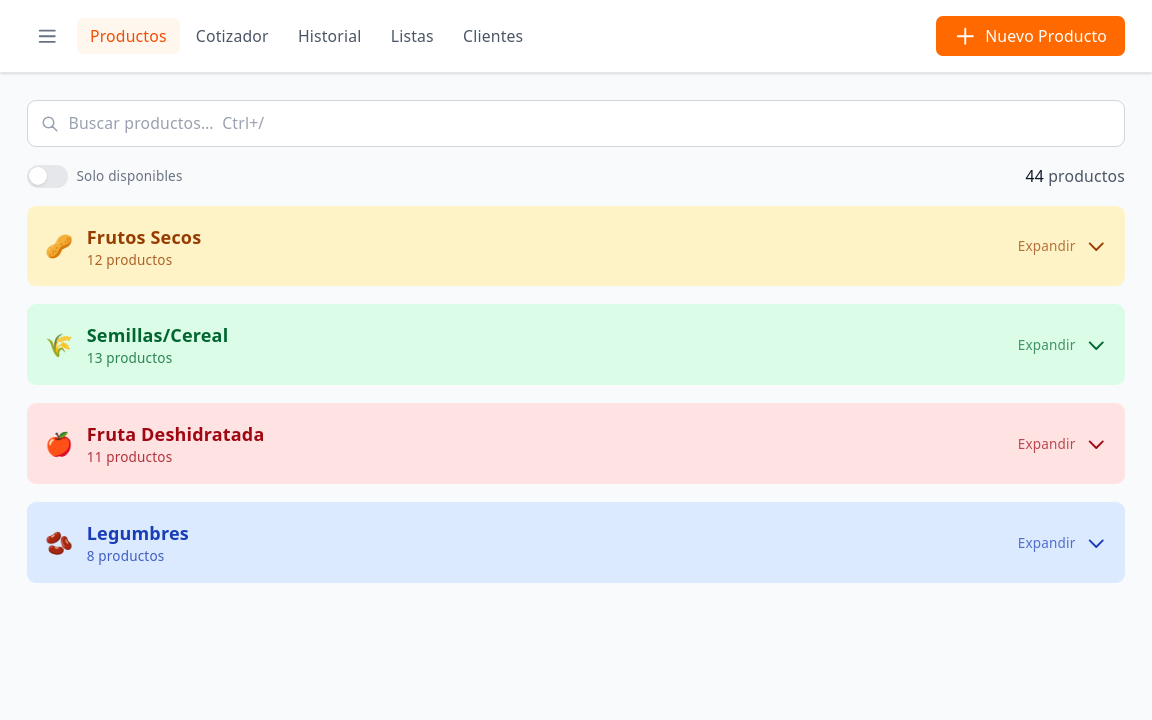
Test: Change password from the options menu › keeps the dialog open with a safe message when validation fails
Step 1. Click the button named "Menú de opciones" → [47, 36], box [27,16,68,56]
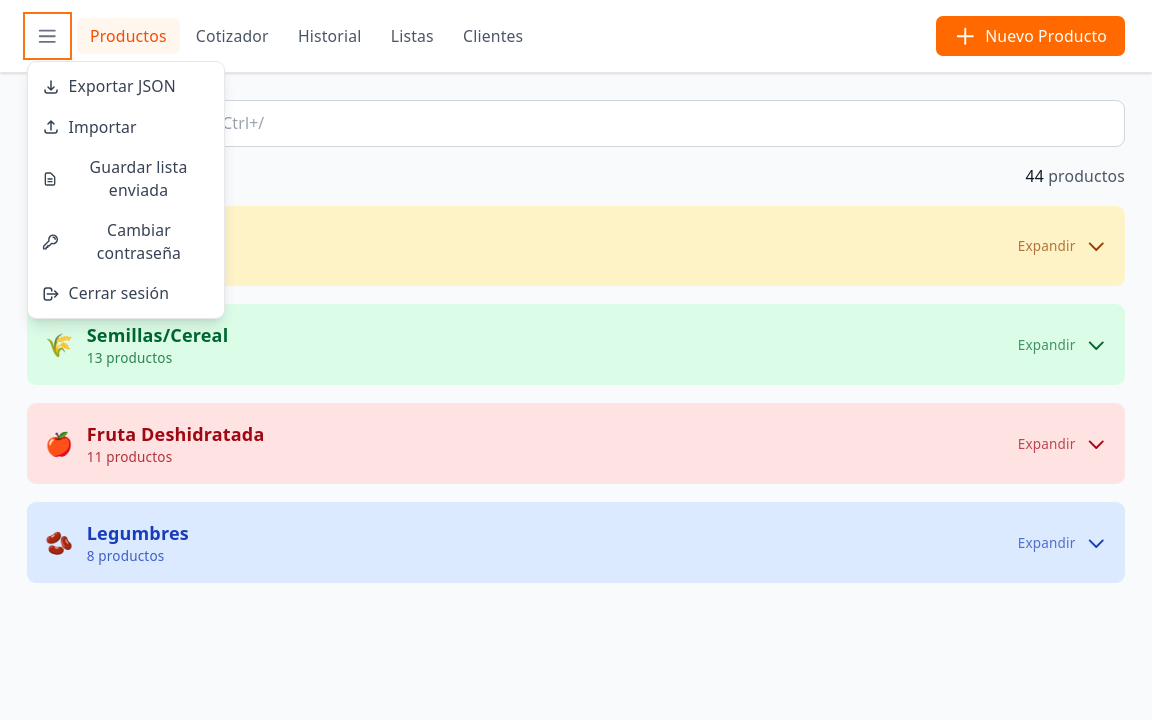
Step 2. Click the button "Cambiar contraseña" → [126, 242], box [28,210,224,273]
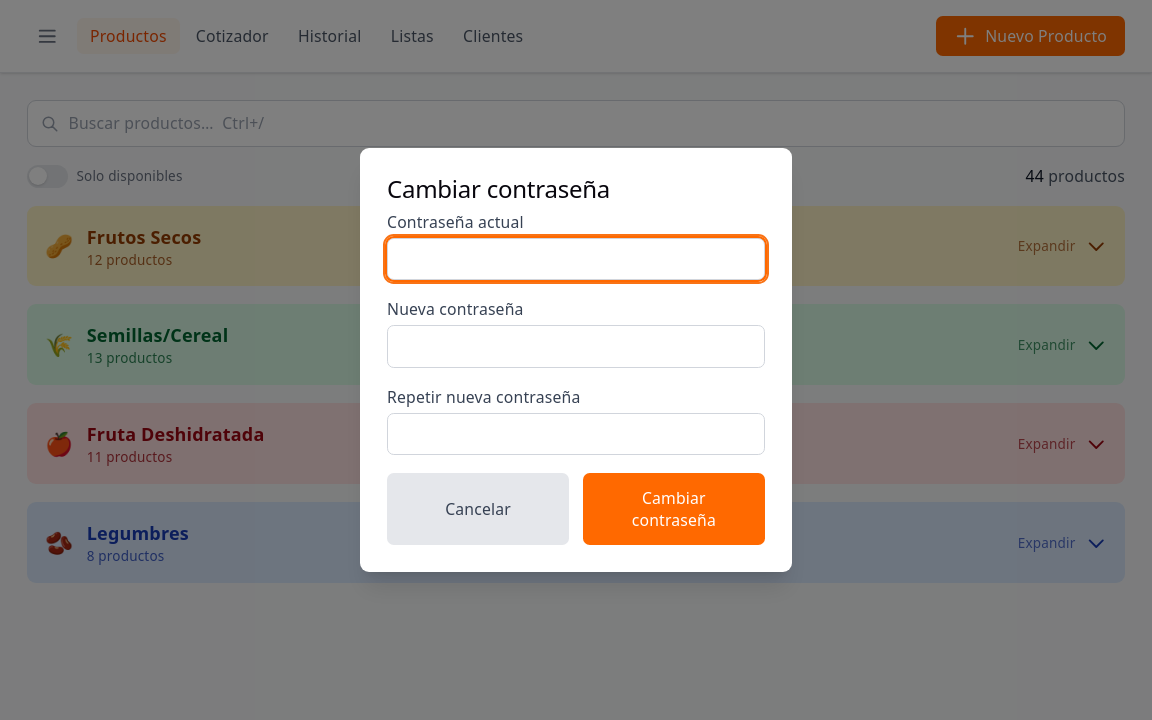
Step 3. Type "current-secret" into the password field labelled "Contraseña actual" → [576, 259], box [387,238,765,280]
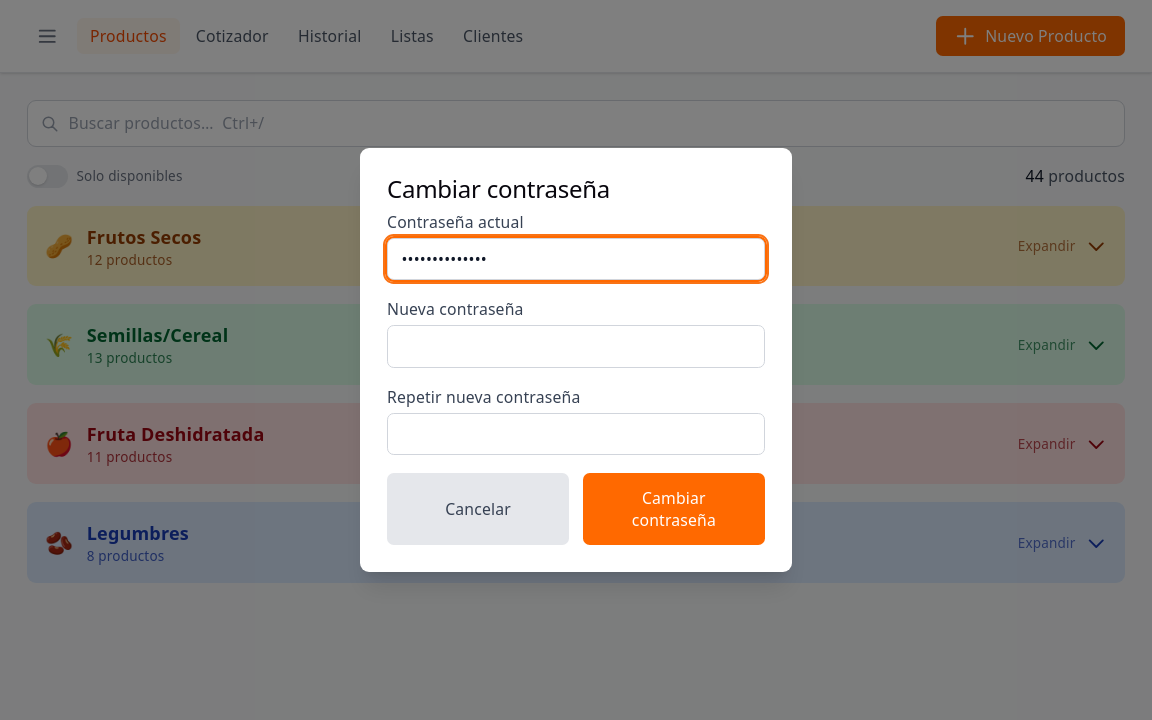
Step 4. Type "new-secret-1" into the password field labelled "Nueva contraseña" → [576, 347], box [387,325,765,368]
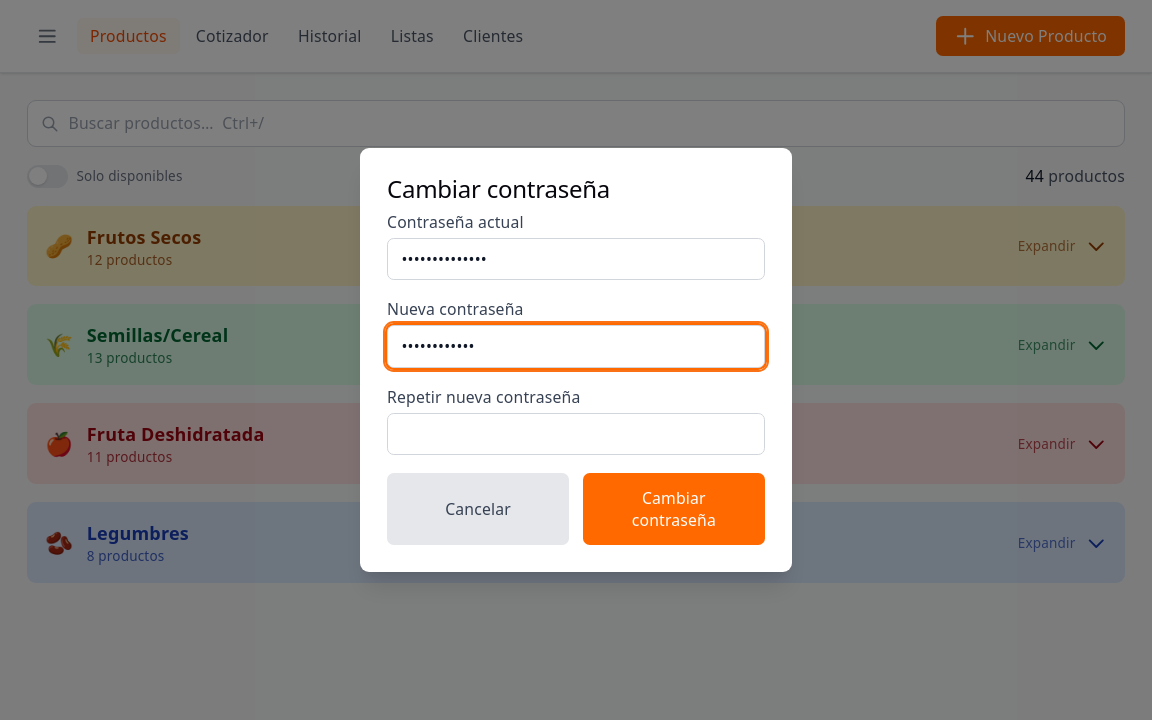
Step 5. Type "other-secret-1" into the password field labelled "Repetir nueva contraseña" → [576, 434], box [387,413,765,455]
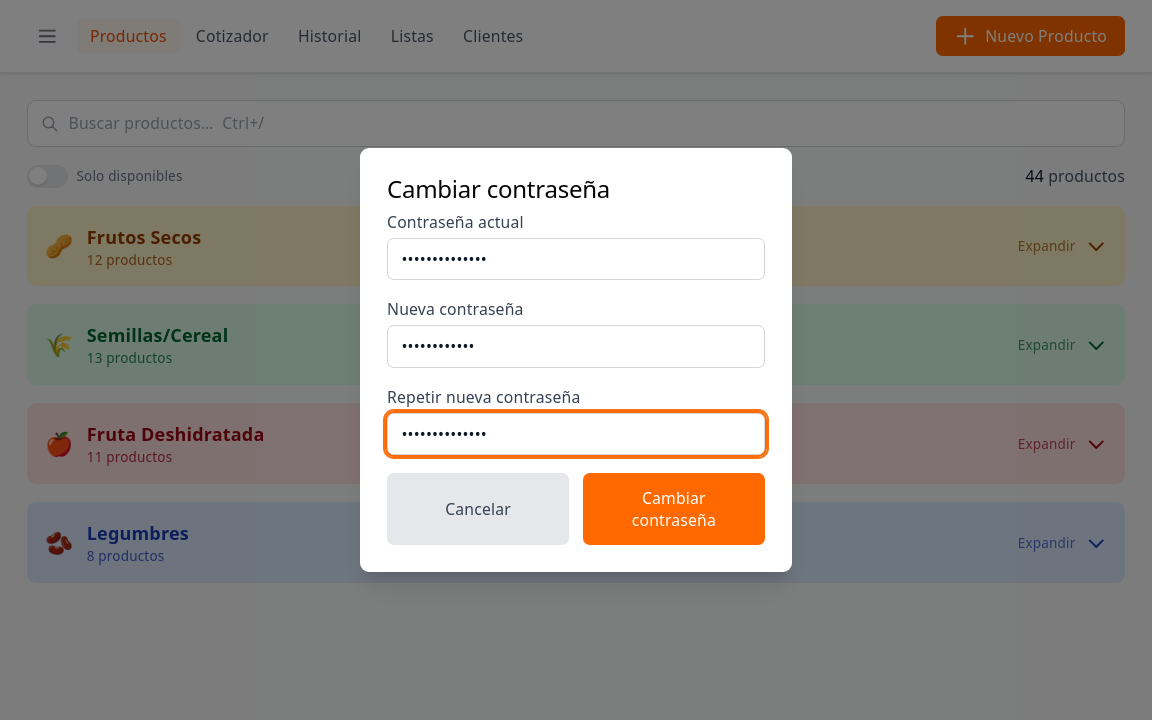
Step 6. Click the button "Cambiar contraseña" → [674, 509], box [583,473,765,545]
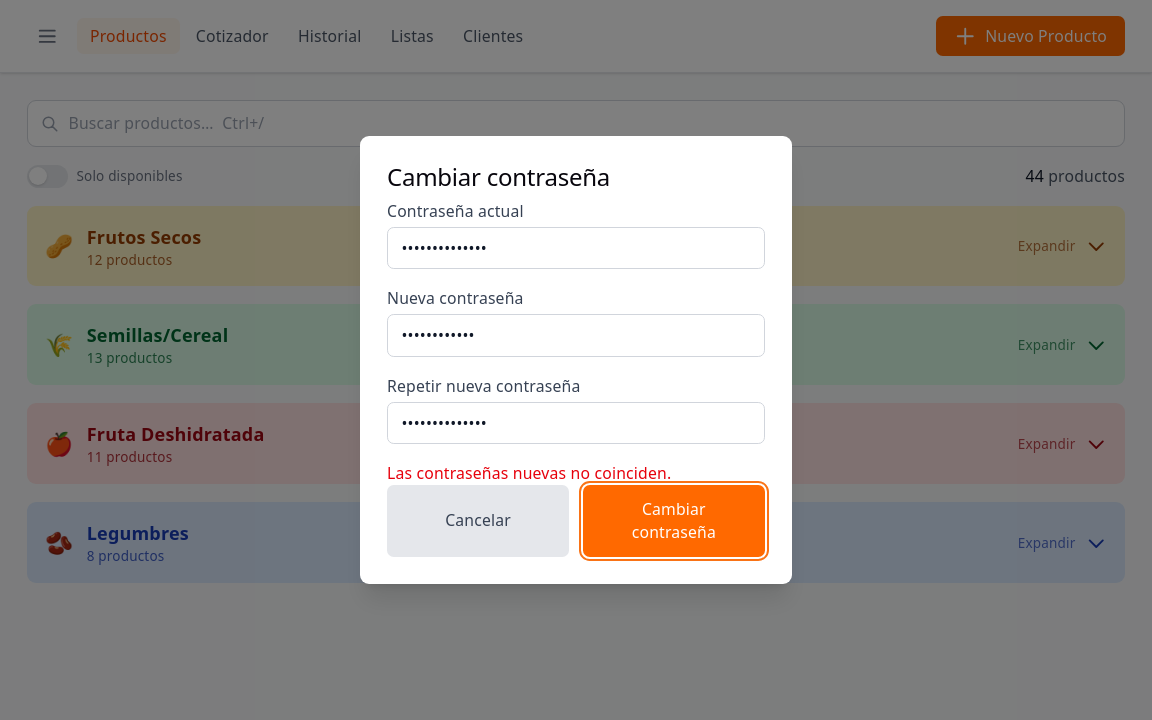
Expected: the message reads "Las contraseñas nuevas no coinciden.", [387,462,671,484]
